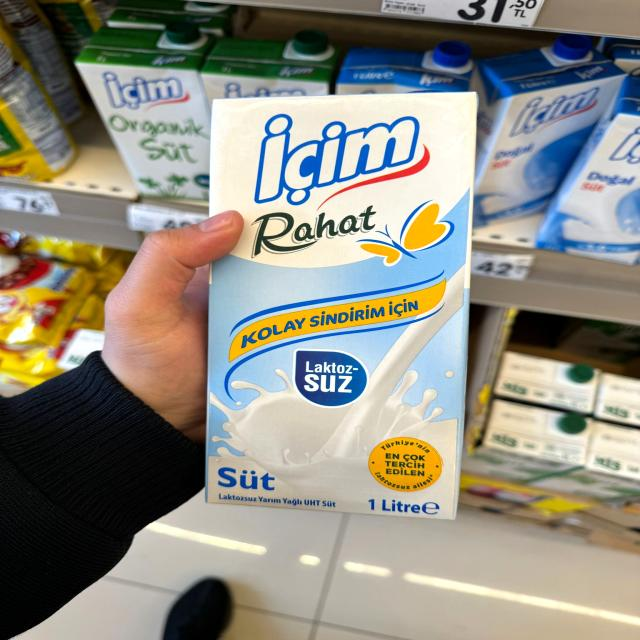milk: (212, 97, 460, 517)
